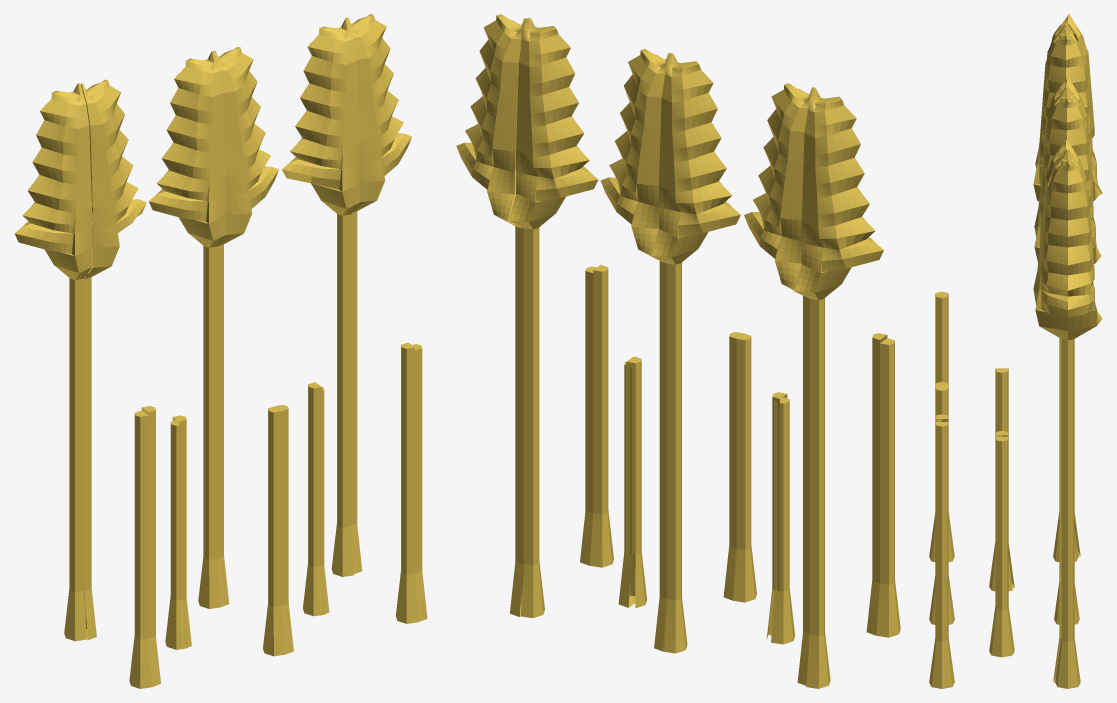
The model's file is wheat2.fbx.
3 views of the same model, side by side, from view 1: azimuth 30°, elevation 25°; view 2: azimuth 150°, elevation 25°; view 3: azimuth 270°, elevation 25° (orthographic). The views are drawn at different scales.
Parts seen in each view (by area): view 1: Cube; view 2: Cube; view 3: Cube.
Boxes of the visible parts, x1,y1,x2,y2 form: Cube: (14, 14, 427, 688); Cube: (456, 14, 900, 688); Cube: (929, 14, 1102, 688).
Bounding box in the file's own units: 143 × 189 × 55.87.
